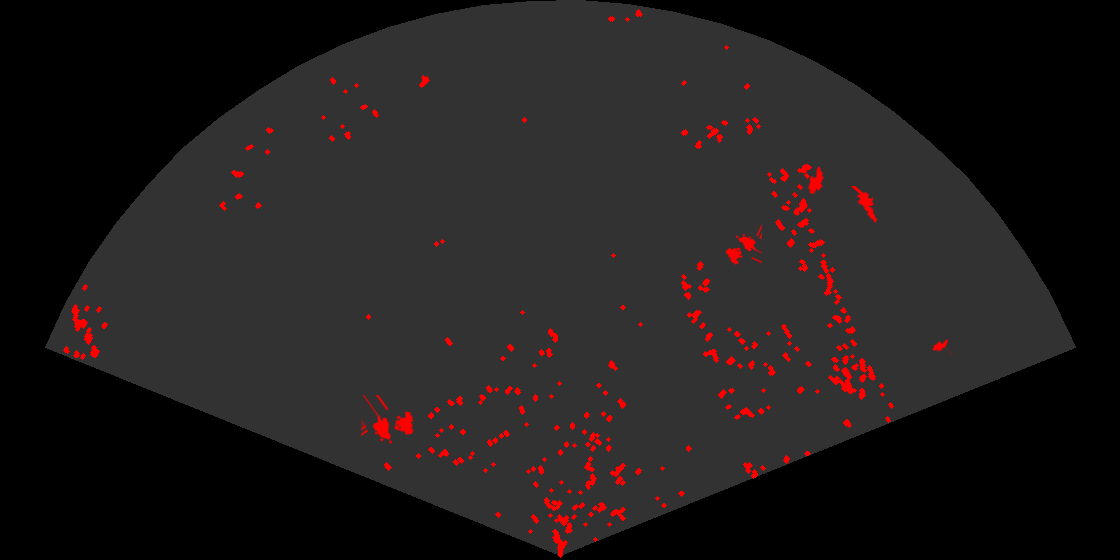AUV: (807, 165, 825, 196), (930, 338, 952, 356)
cage: (361, 395, 415, 445), (724, 223, 762, 266)
frogman: (849, 186, 882, 225)
